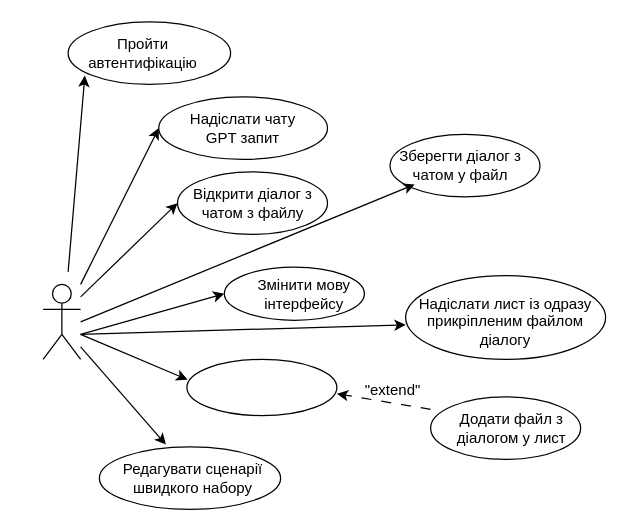
Image size: 628x531. Some labels were removed from this diagram. The box of each missing label's shape, as (x1, y1, x2, y2) in pixels:
Користувач: (42, 283, 81, 359)
Надіслати на пошту лист: (186, 358, 337, 416)
